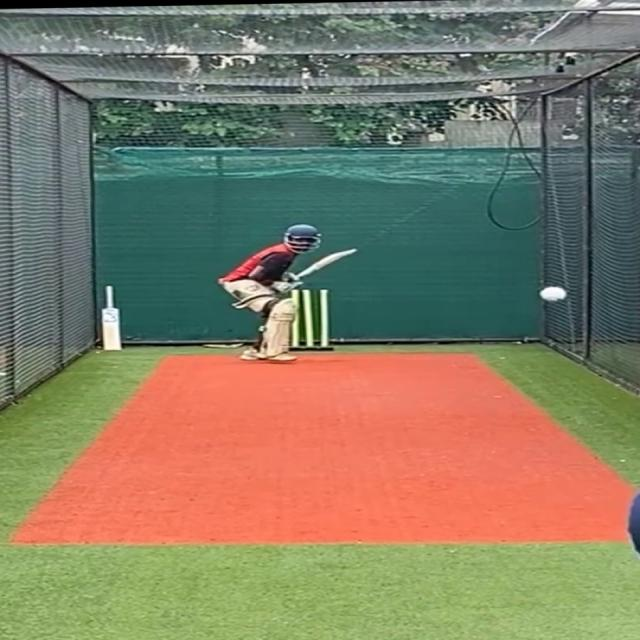ball: (537, 283, 571, 303)
stump: (290, 285, 336, 352)
